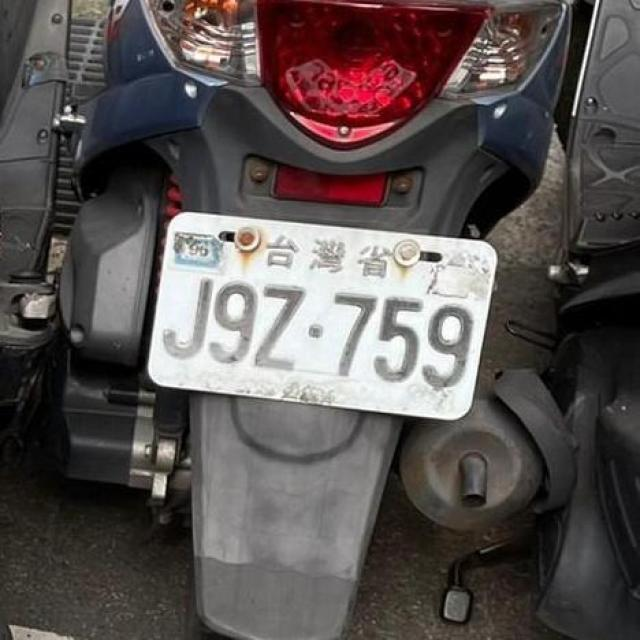W: (136, 197, 503, 427)
